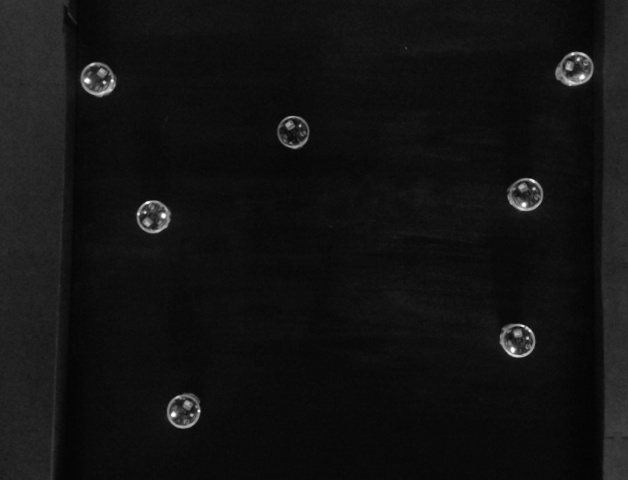epuck_2: (554, 50, 593, 87), (165, 393, 204, 430), (504, 176, 544, 212), (498, 322, 535, 360), (80, 61, 116, 98), (135, 200, 171, 235), (276, 114, 310, 151)
